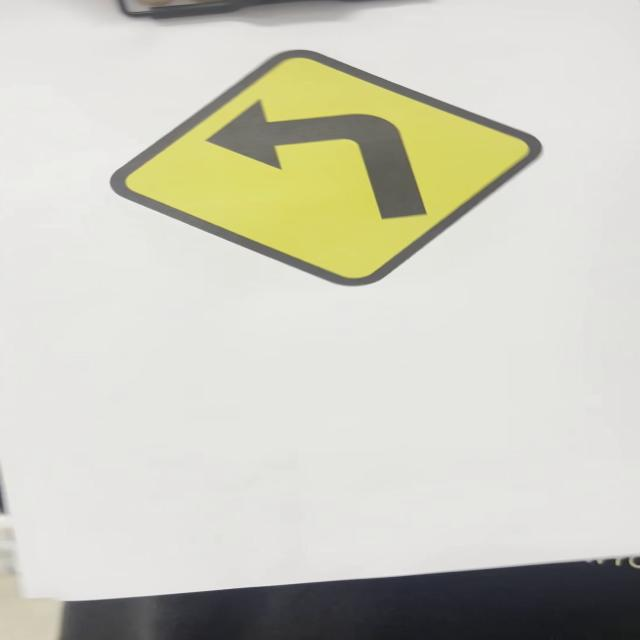left: (110, 48, 546, 290)
